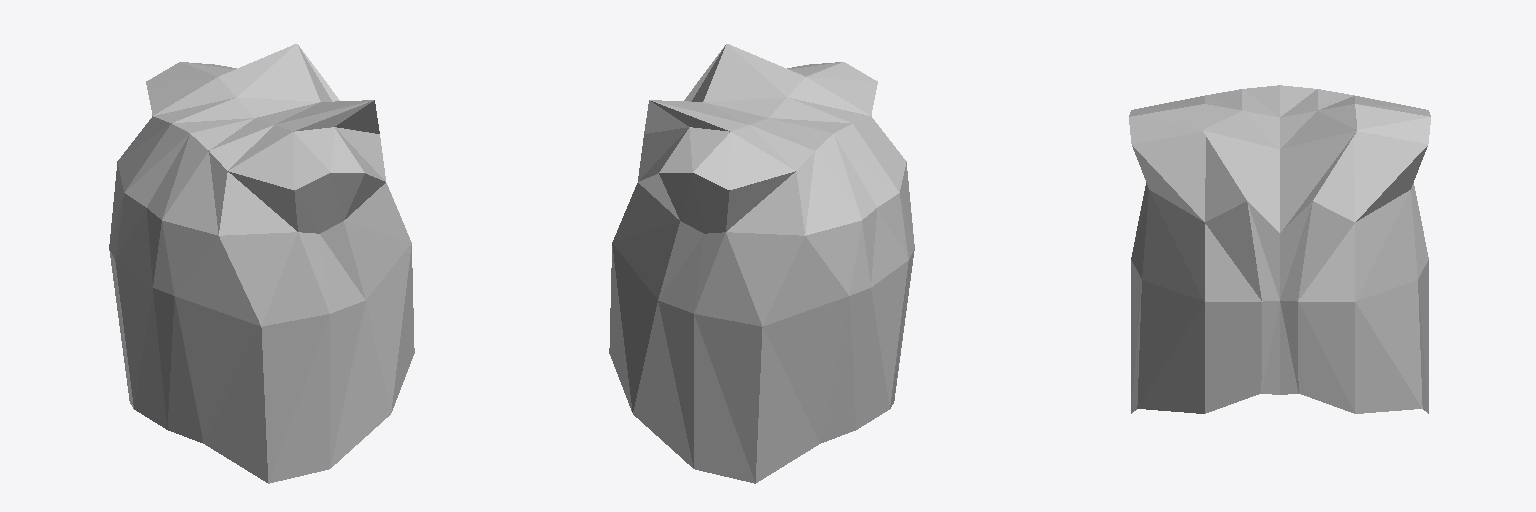
The model's file is ropaPirata.obj.
3 renders of one model, left to right at view 1: azimuth 30°, elevation 25°; view 2: azimuth 150°, elevation 25°; view 3: azimuth 270°, elevation 25°, orthographic.
Visible parts, largest first — view 1: Cube.003; view 2: Cube.003; view 3: Cube.003.
Boxes of the visible parts, box(x1,y1,x2,y2) form: Cube.003: box(109, 44, 414, 483); Cube.003: box(609, 44, 914, 483); Cube.003: box(1129, 85, 1430, 413).
Bounding box in the file's own units: 1.65 × 2.13 × 1.78.